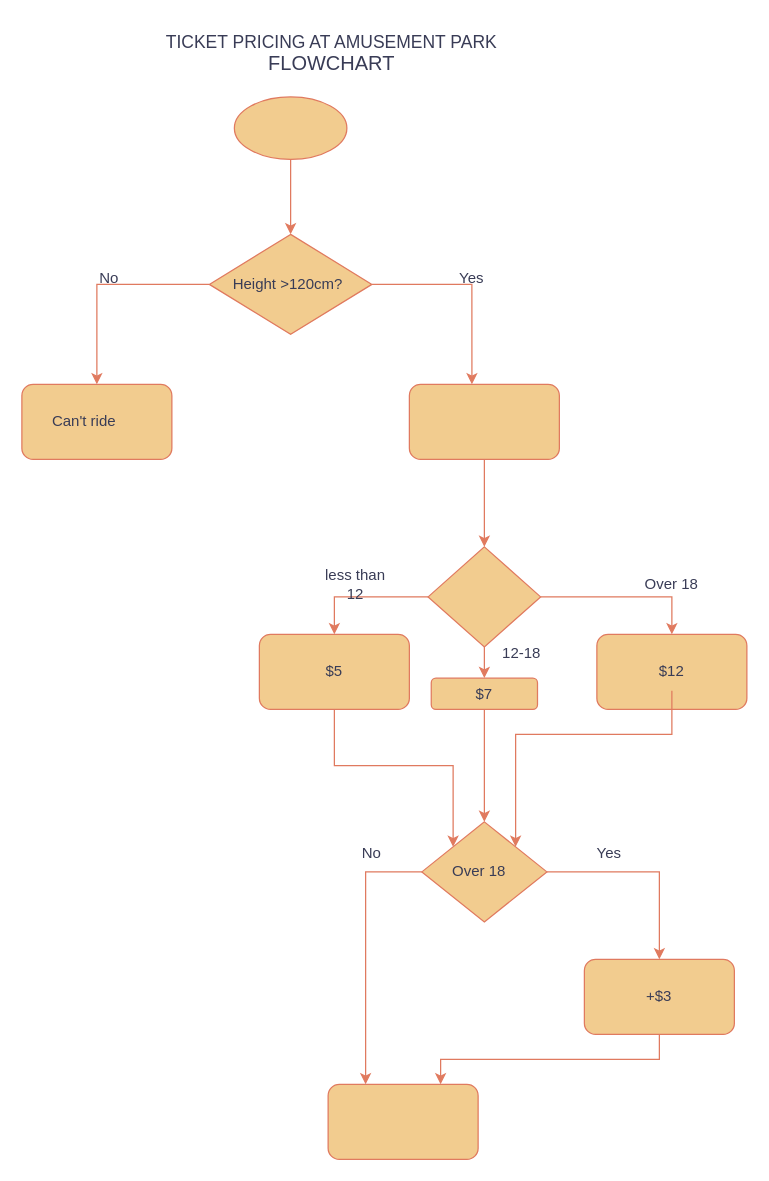
This 769x1181 diagram has some shape labels left out. Each missing label, with the centre of its shape:
Age: pixel 484 596
Can ride: pixel 483 421
Start: pixel 290 127
The total bill is $x: pixel 402 1121
